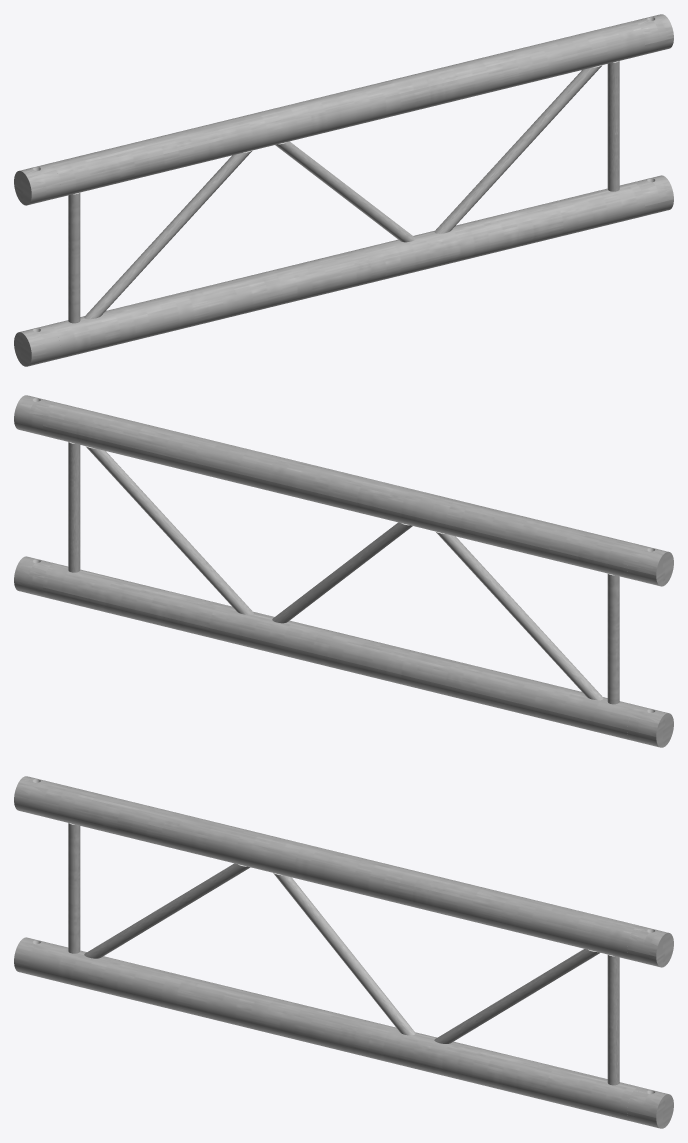
The model's file is Milos_M290V_1000_Duo_Truss_section-29337298.glb.
3 renders of one model, top to bottom at view 1: azimuth 30°, elevation 25°; view 2: azimuth 150°, elevation 25°; view 3: azimuth 330°, elevation 25°, orthographic.
Parts seen in each view (by area): view 1: Geom3D; view 2: Geom3D; view 3: Geom3D.
Boxes of the visible parts, left/top/right/bottom form: Geom3D: left=14, top=14, right=673, bottom=366; Geom3D: left=14, top=395, right=673, bottom=747; Geom3D: left=14, top=776, right=673, bottom=1128.
Size of the model in its own units: 1 by 0.288 by 0.048.
2 materials, 1 textured.
